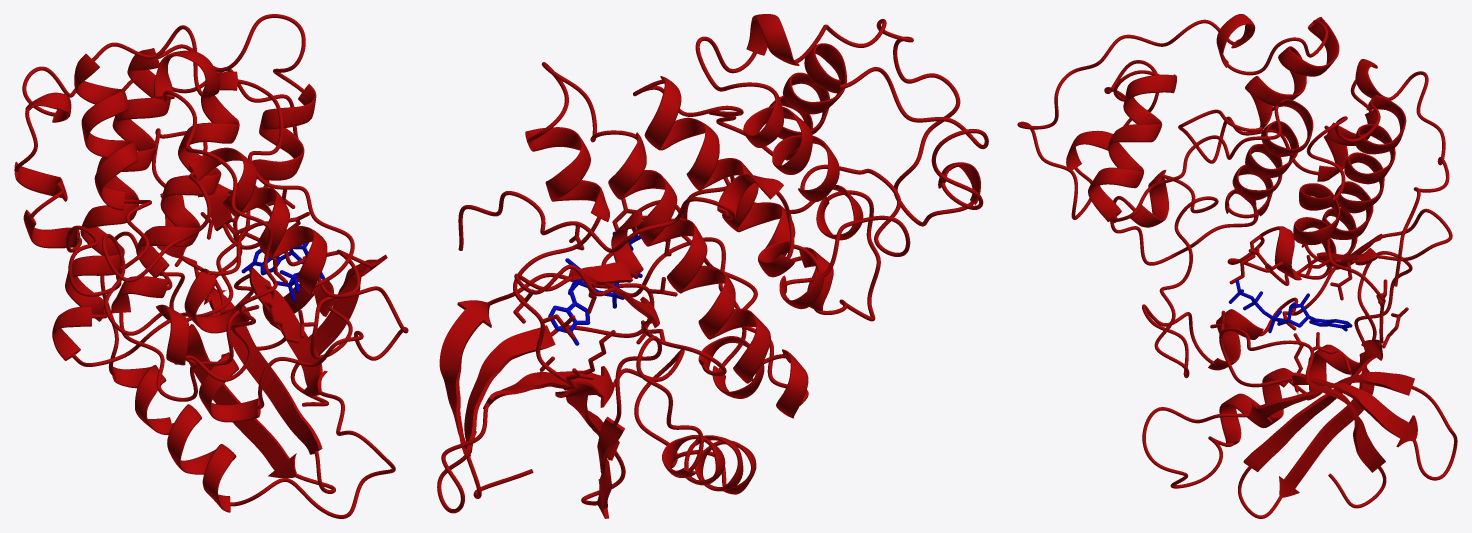
File: Alpha_3D.glb
3 views of the same model, side by side, from view 1: azimuth 30°, elevation 25°; view 2: azimuth 150°, elevation 25°; view 3: azimuth 270°, elevation 25° (orthographic). The views are drawn at different scales.
Parts seen in each view (by area): view 1: ribbons mesh, bonds; view 2: ribbons mesh, bonds; view 3: ribbons mesh, bonds.
Part boxes in pixels (x1=…): ribbons mesh: x1=14, y1=14, x2=408, y2=518; bonds: x1=176, y1=190, x2=338, y2=343; ribbons mesh: x1=437, y1=14, x2=988, y2=518; bonds: x1=513, y1=198, x2=676, y2=390; ribbons mesh: x1=1017, y1=14, x2=1457, y2=518; bonds: x1=1211, y1=234, x2=1407, y2=390.
Bounding box in the file's own units: 44.5 × 52.95 × 49.01.
